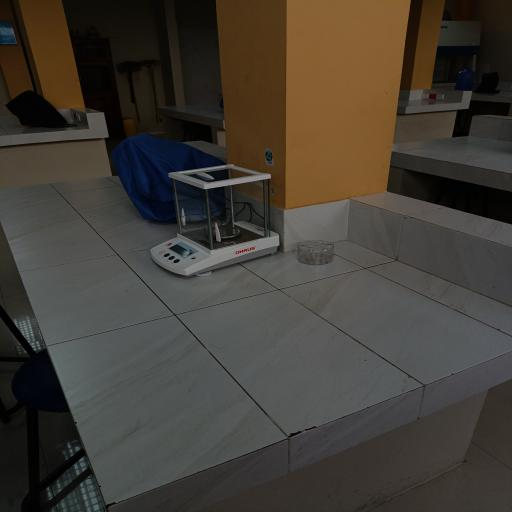Balanza_Analitica_Ohaus: (142, 158, 288, 283)
